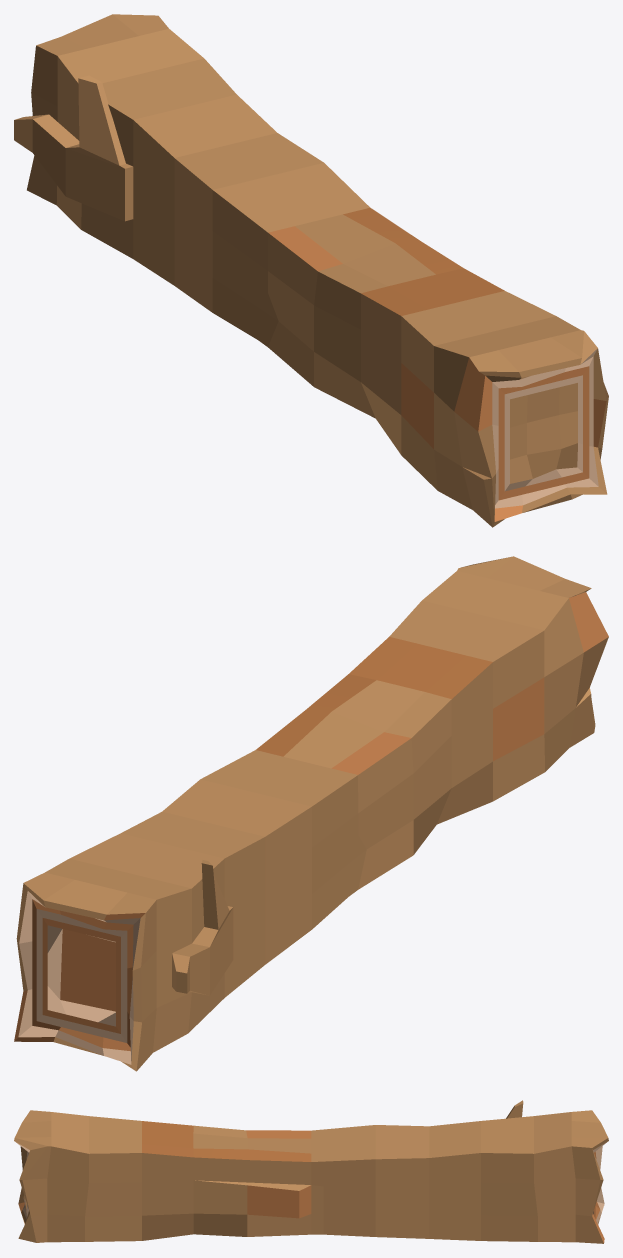
Rendered from log.fbx.
The picture shows the model from 3 angles, top to bottom: view 1: azimuth 30°, elevation 25°; view 2: azimuth 150°, elevation 25°; view 3: azimuth 270°, elevation 25°; orthographic projection. The views are drawn at different scales.
Parts seen in each view (by area): view 1: polySurface2; view 2: polySurface2; view 3: polySurface2.
Boxes of the visible parts, bbox=[...] form: polySurface2: bbox=[14, 14, 608, 527]; polySurface2: bbox=[14, 556, 608, 1071]; polySurface2: bbox=[14, 1100, 608, 1243].
Size of the model in its own units: 1.52 by 1.49 by 7.8.
